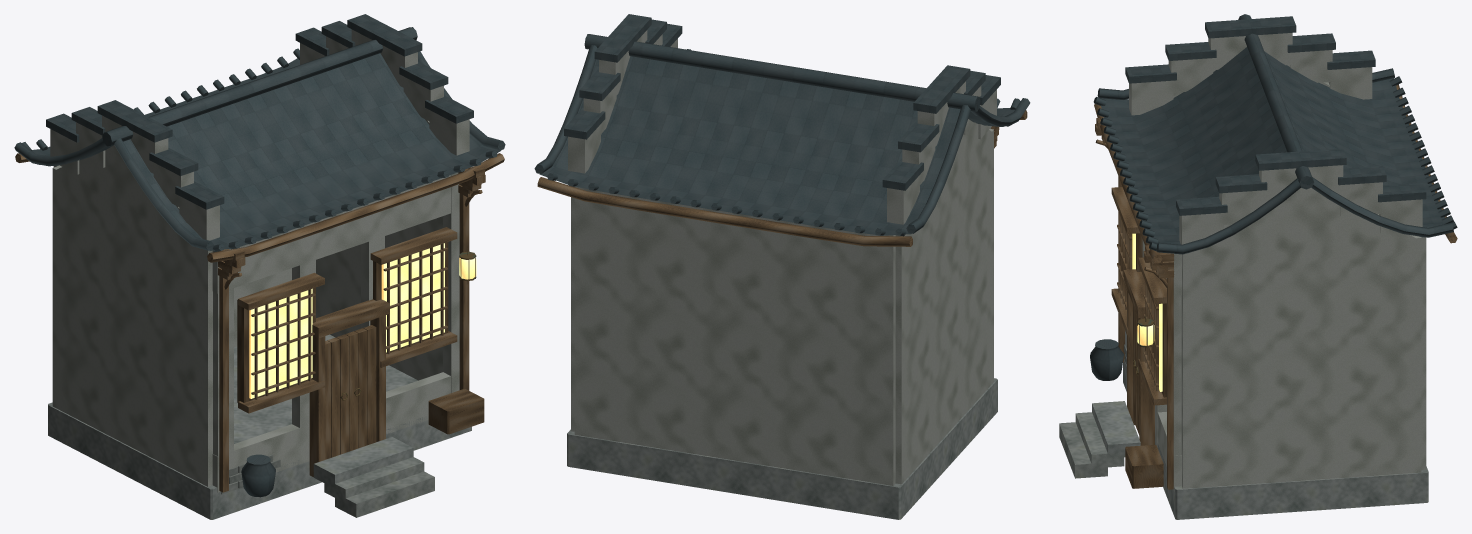
The model's file is house_02_lod0.glb.
The picture shows the model from 3 angles, left to right: view 1: azimuth 30°, elevation 25°; view 2: azimuth 150°, elevation 25°; view 3: azimuth 270°, elevation 25°; orthographic projection. The views are drawn at different scales.
Visible parts, largest first — view 1: house_02_L0__plaster, house_02_L0__tile, house_02_L0__timber, house_02_L0__stone, house_02_L0__paper; view 2: house_02_L0__plaster, house_02_L0__tile, house_02_L0__stone, house_02_L0__timber; view 3: house_02_L0__plaster, house_02_L0__tile, house_02_L0__stone, house_02_L0__timber, house_02_L0__paper.
Part boxes in pixels (x1,y1,x2,y2): house_02_L0__plaster: [50, 29, 469, 492]; house_02_L0__tile: [14, 14, 505, 497]; house_02_L0__timber: [15, 153, 504, 492]; house_02_L0__stone: [48, 334, 471, 519]; house_02_L0__paper: [249, 243, 476, 398]; house_02_L0__plaster: [568, 30, 996, 485]; house_02_L0__tile: [534, 14, 1030, 236]; house_02_L0__stone: [567, 378, 997, 519]; house_02_L0__timber: [537, 110, 1027, 246]; house_02_L0__plaster: [1125, 33, 1426, 491]; house_02_L0__tile: [1090, 14, 1457, 380]; house_02_L0__stone: [1059, 344, 1428, 519]; house_02_L0__timber: [1094, 84, 1457, 489]; house_02_L0__paper: [1132, 233, 1162, 391].
Size of the model in its own units: 5.6 by 5.17 by 5.28.
6 materials, 6 textured.
